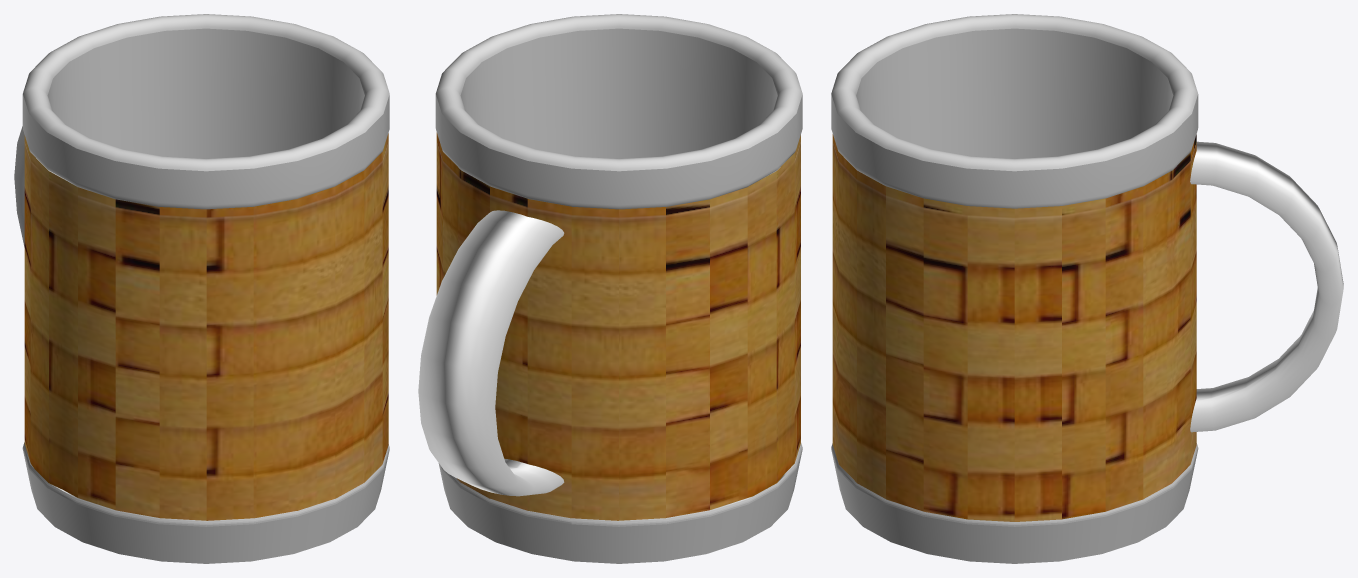
3 views of the same model, side by side, from view 1: azimuth 30°, elevation 25°; view 2: azimuth 150°, elevation 25°; view 3: azimuth 270°, elevation 25° (orthographic).
Parts seen in each view (by area): view 1: mesh2_mesh2-geometry_1, mesh2_mesh2-geometry, mesh1_mesh1-geometry; view 2: mesh2_mesh2-geometry_1, mesh2_mesh2-geometry, mesh1_mesh1-geometry; view 3: mesh2_mesh2-geometry_1, mesh2_mesh2-geometry, mesh1_mesh1-geometry.
Boxes of the visible parts, left/top/right/bottom form: mesh2_mesh2-geometry_1: left=24, top=133, right=388, bottom=520; mesh2_mesh2-geometry: left=22, top=14, right=389, bottom=563; mesh1_mesh1-geometry: left=14, top=126, right=24, bottom=247; mesh2_mesh2-geometry_1: left=436, top=132, right=800, bottom=520; mesh2_mesh2-geometry: left=435, top=14, right=802, bottom=563; mesh1_mesh1-geometry: left=418, top=210, right=564, bottom=496; mesh2_mesh2-geometry_1: left=832, top=134, right=1196, bottom=521; mesh2_mesh2-geometry: left=831, top=14, right=1198, bottom=563; mesh1_mesh1-geometry: left=1190, top=141, right=1343, bottom=432.
Bounding box in the file's own units: 0.4761 × 0.5756 × 0.6649.
3 materials, 1 textured.
